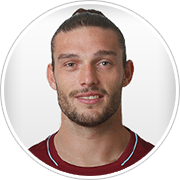smile: (72, 93, 105, 105)
